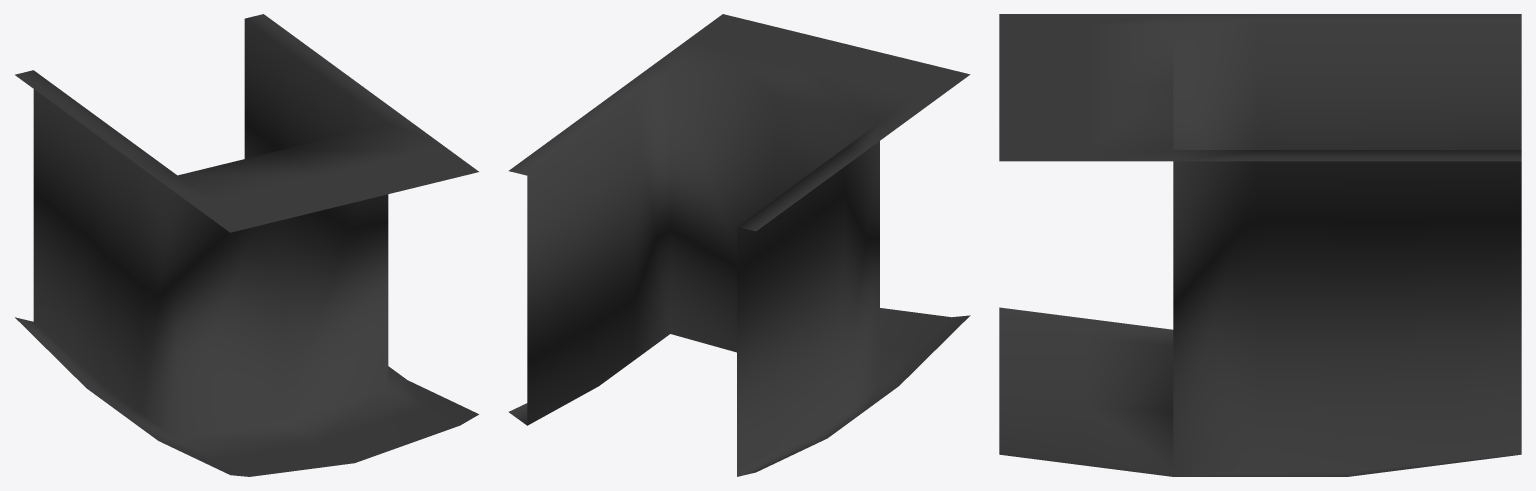
File: a-door-frame.fbx
3 renders of one model, left to right at view 1: azimuth 30°, elevation 25°; view 2: azimuth 150°, elevation 25°; view 3: azimuth 270°, elevation 25°, orthographic. The views are drawn at different scales.
Parts seen in each view (by area): view 1: a-door-frame; view 2: a-door-frame; view 3: a-door-frame.
Boxes of the visible parts, bbox=[...] form: a-door-frame: bbox=[15, 14, 478, 476]; a-door-frame: bbox=[509, 14, 970, 476]; a-door-frame: bbox=[999, 14, 1521, 476].
Bounding box in the file's own units: 2 × 2.06 × 3.
